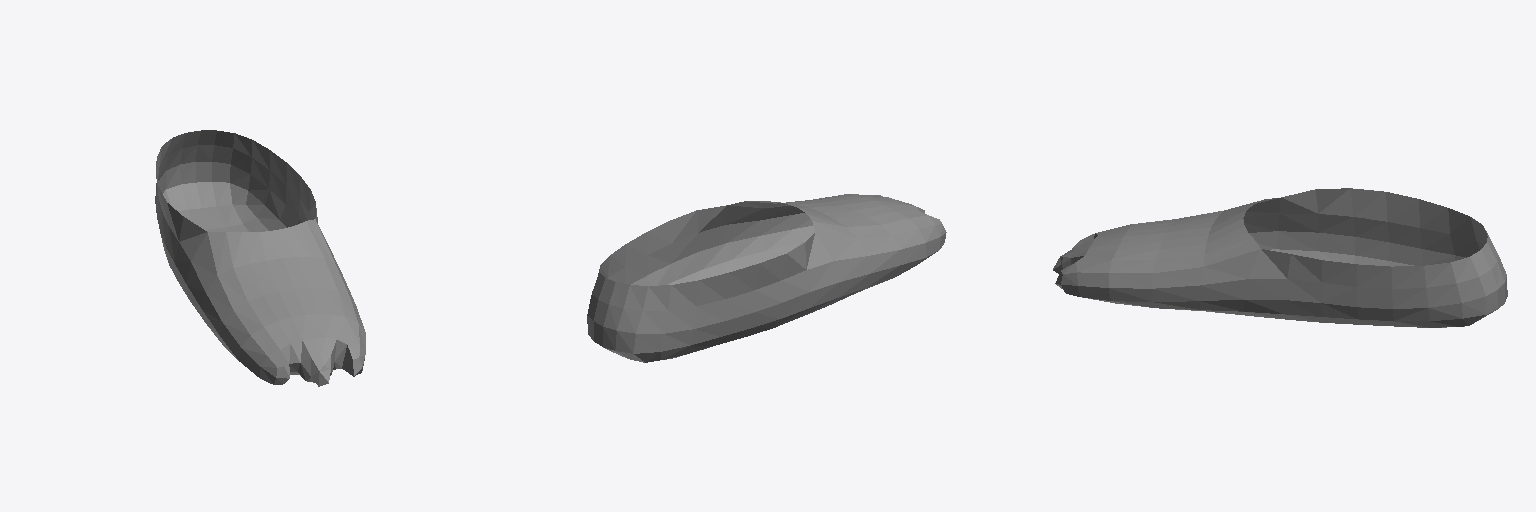
Rendered from pataDerPicachu.obj.
3 renders of one model, left to right at view 1: azimuth 30°, elevation 25°; view 2: azimuth 150°, elevation 25°; view 3: azimuth 270°, elevation 25°, orthographic.
Parts seen in each view (by area): view 1: pataDerPic; view 2: pataDerPic; view 3: pataDerPic.
Boxes of the visible parts, box(x1,y1,x2,y2) form: pataDerPic: box(155, 130, 365, 386); pataDerPic: box(587, 194, 946, 362); pataDerPic: box(1053, 188, 1507, 327).
Bounding box in the file's own units: 0.3745 × 0.1737 × 0.8438.